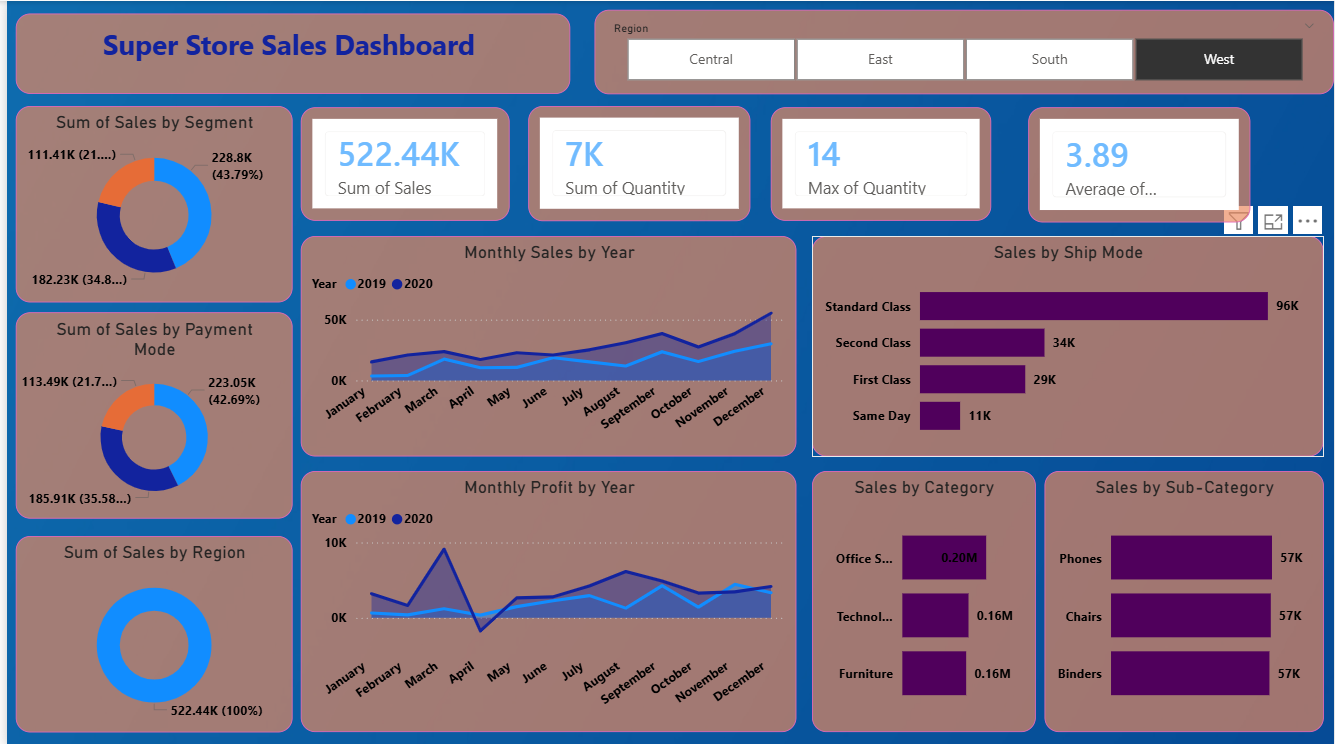

What the dashboard file says about the page in this screenshot:
{"tool":"powerbi","page":{"name":"Page 1","canvas":[1280,720],"ordinal":0},"visuals":[{"type":"clusteredBarChart","title":" Sales by Category","fields":{"Category":["SuperStore_Sales_Dataset.Category"],"Y":["Sum(SuperStore_Sales_Dataset.Sales)"]},"box":[776.7,453.8,215.7,251.8],"z":0},{"type":"clusteredBarChart","title":" Sales by Sub-Category","fields":{"Category":["SuperStore_Sales_Dataset.Sub-Category"],"Y":["Sum(SuperStore_Sales_Dataset.Sales)"]},"box":[1001.1,453.8,269.3,251.8],"z":1000},{"type":"clusteredBarChart","title":" Sales by Ship Mode","fields":{"Category":["SuperStore_Sales_Dataset.Ship Mode"],"Y":["Sum(SuperStore_Sales_Dataset.Sales)"]},"box":[776.7,226.9,493.7,213.2],"z":2000},{"type":"areaChart","title":"Monthly Sales by Year","fields":{"Y":["Sum(SuperStore_Sales_Dataset.Sales)"],"Category":["SuperStore_Sales_Dataset.Order Date.Variation.Date Hierarchy.Month","SuperStore_Sales_Dataset.Order Date.Variation.Date Hierarchy.Day"],"Series":["SuperStore_Sales_Dataset.Order Date.Variation.Date Hierarchy.Year"]},"box":[283,226.9,478.8,213.2],"z":3000},{"type":"areaChart","title":"Monthly Profit by Year","fields":{"Category":["SuperStore_Sales_Dataset.Order Date.Variation.Date Hierarchy.Month","SuperStore_Sales_Dataset.Order Date.Variation.Date Hierarchy.Day"],"Series":["SuperStore_Sales_Dataset.Order Date.Variation.Date Hierarchy.Year"],"Y":["Sum(SuperStore_Sales_Dataset.Profit)"]},"box":[283,453.8,478.8,251.8],"z":4000},{"type":"donutChart","fields":{"Category":["SuperStore_Sales_Dataset.Segment"],"Y":["Sum(SuperStore_Sales_Dataset.Sales)"]},"box":[8.7,101,266.8,189.5],"z":5000},{"type":"donutChart","fields":{"Category":["SuperStore_Sales_Dataset.Payment Mode"],"Y":["Sum(SuperStore_Sales_Dataset.Sales)"]},"box":[8.7,300.5,266.8,199.5],"z":6000},{"type":"slicer","fields":{"Values":["SuperStore_Sales_Dataset.Region"]},"box":[566.7,8,713.3,81.3],"z":7000},{"type":"textbox","box":[8.7,12.5,534.9,77.3],"z":8000},{"type":"cardVisual","fields":{"Data":["Sum(SuperStore_Sales_Dataset.Sales)"]},"box":[283,102.2,202,109.7],"z":9000},{"type":"cardVisual","fields":{"Data":["Sum(SuperStore_Sales_Dataset.Quantity)"]},"box":[503.7,101,214.4,111],"z":10000},{"type":"cardVisual","fields":{"Data":["Max(SuperStore_Sales_Dataset.Quantity)"]},"box":[736.8,102.2,213.2,109.7],"z":11000},{"type":"cardVisual","fields":{"Data":["Avg(SuperStore_Sales_Dataset.AvgDelivery)"]},"box":[986.2,102.2,214.4,111],"z":12000},{"type":"donutChart","fields":{"Category":["SuperStore_Sales_Dataset.Region"],"Y":["Sum(SuperStore_Sales_Dataset.Sales)"]},"box":[8.7,516.2,266.8,189.5],"z":13000}]}

Visuals, with their boxes in screenshot pixels (x1, y1, x2, y2), scaled from the page's 1280x720 canvas onto the 1335x744 screenshot:
" Sales by Category" clusteredBarChart: (810,469,1035,729)
" Sales by Sub-Category" clusteredBarChart: (1044,469,1325,729)
" Sales by Ship Mode" clusteredBarChart: (810,234,1325,455)
"Monthly Sales by Year" areaChart: (295,234,795,455)
"Monthly Profit by Year" areaChart: (295,469,795,729)
donutChart - SuperStore_Sales_Dataset.Segment x Sum(SuperStore_Sales_Dataset.Sales): (9,104,287,300)
donutChart - SuperStore_Sales_Dataset.Payment Mode x Sum(SuperStore_Sales_Dataset.Sales): (9,311,287,517)
slicer - SuperStore_Sales_Dataset.Region: (591,8,1334,92)
textbox: (9,13,567,93)
cardVisual - Sum(SuperStore_Sales_Dataset.Sales): (295,106,506,219)
cardVisual - Sum(SuperStore_Sales_Dataset.Quantity): (525,104,749,219)
cardVisual - Max(SuperStore_Sales_Dataset.Quantity): (768,106,991,219)
cardVisual - Avg(SuperStore_Sales_Dataset.AvgDelivery): (1029,106,1252,220)
donutChart - SuperStore_Sales_Dataset.Region x Sum(SuperStore_Sales_Dataset.Sales): (9,533,287,729)
